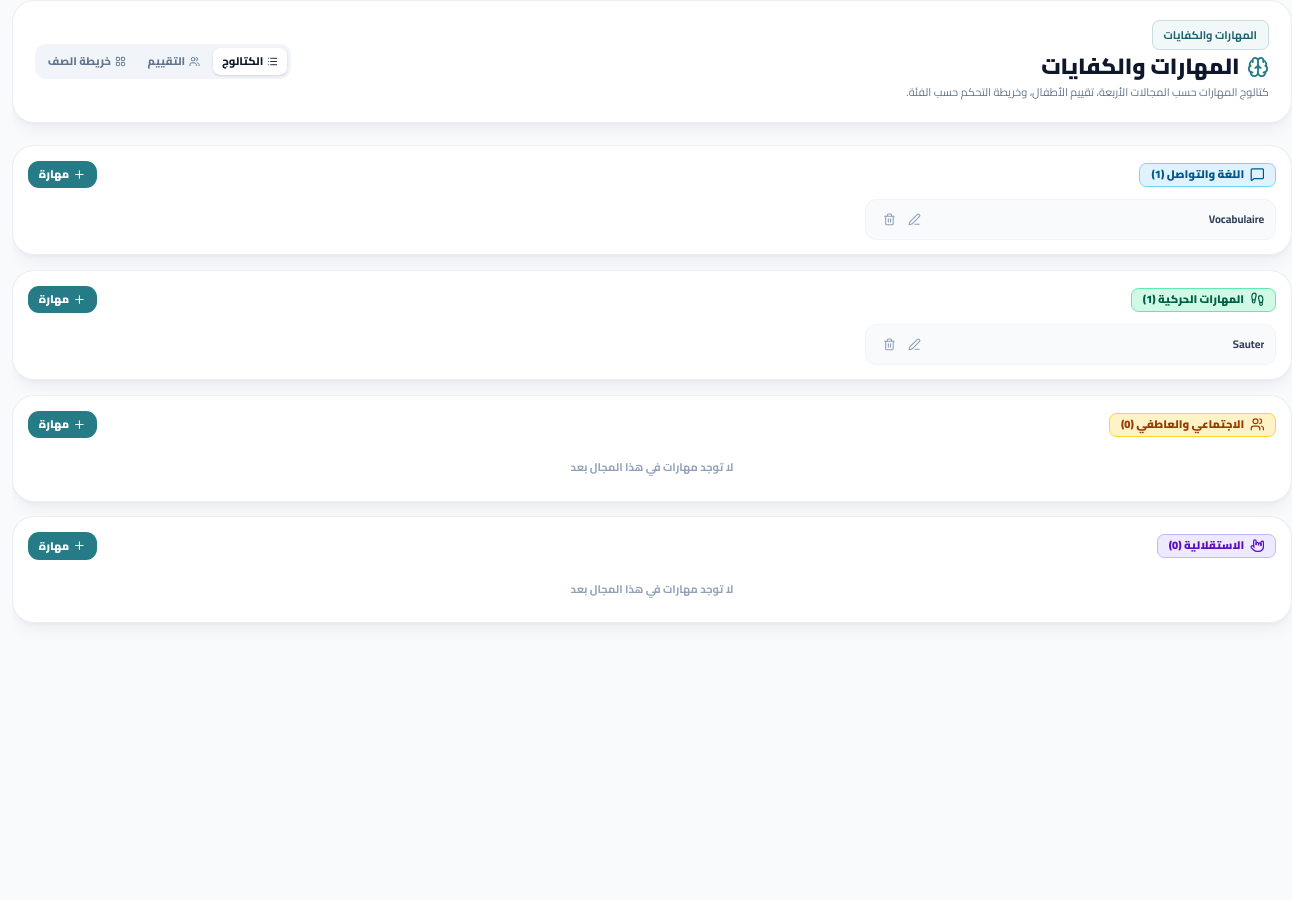
Test: CompetencesModule — US2 evaluations › renders evaluated skills grouped by domain with the stored level
Click the button "التقييم". click: click(174, 62)
box: [138, 48, 209, 75]
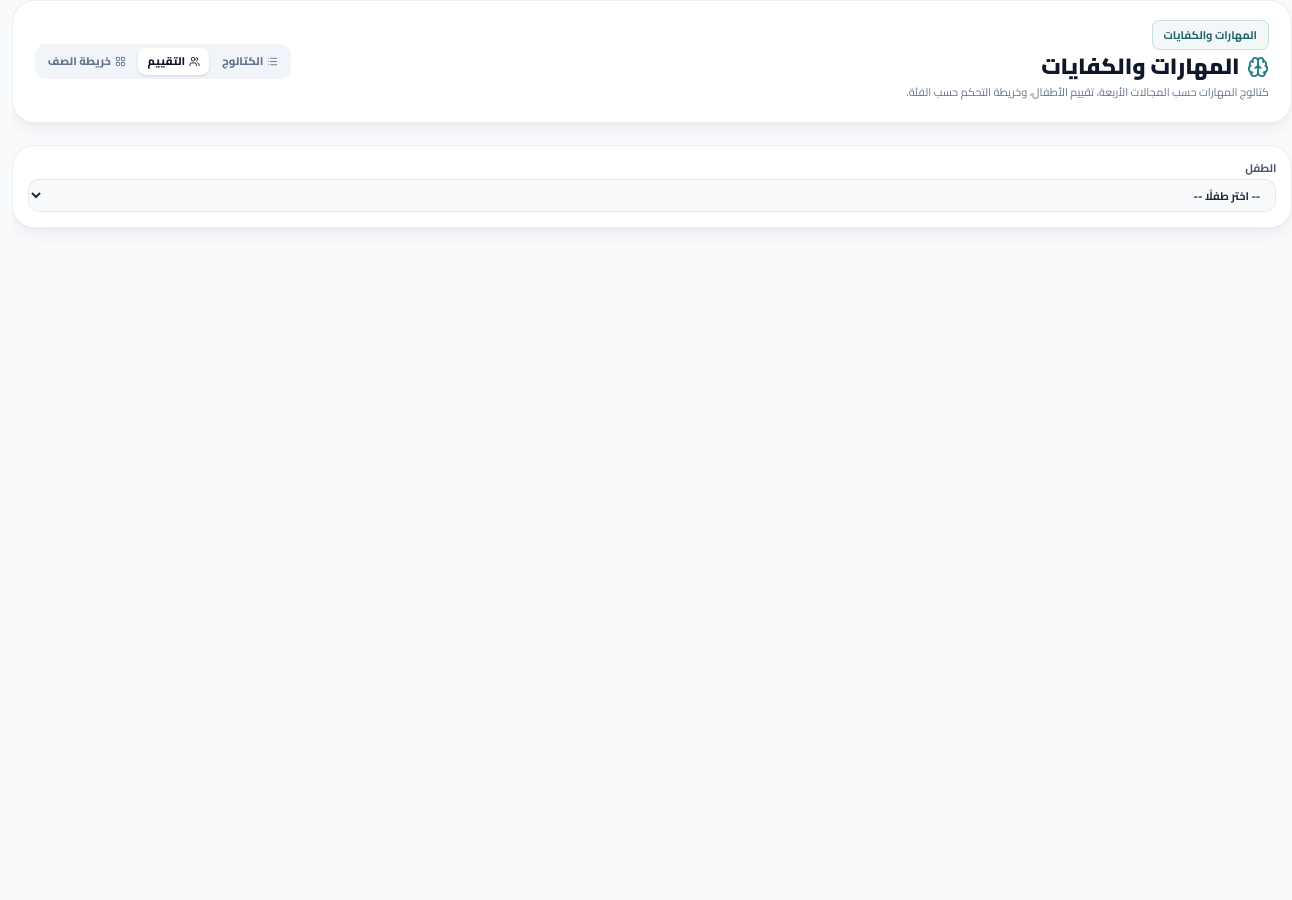
Select "Amine Ben" in the dropdown named "الطفل". click: (652, 196)
box: [28, 179, 1276, 212]
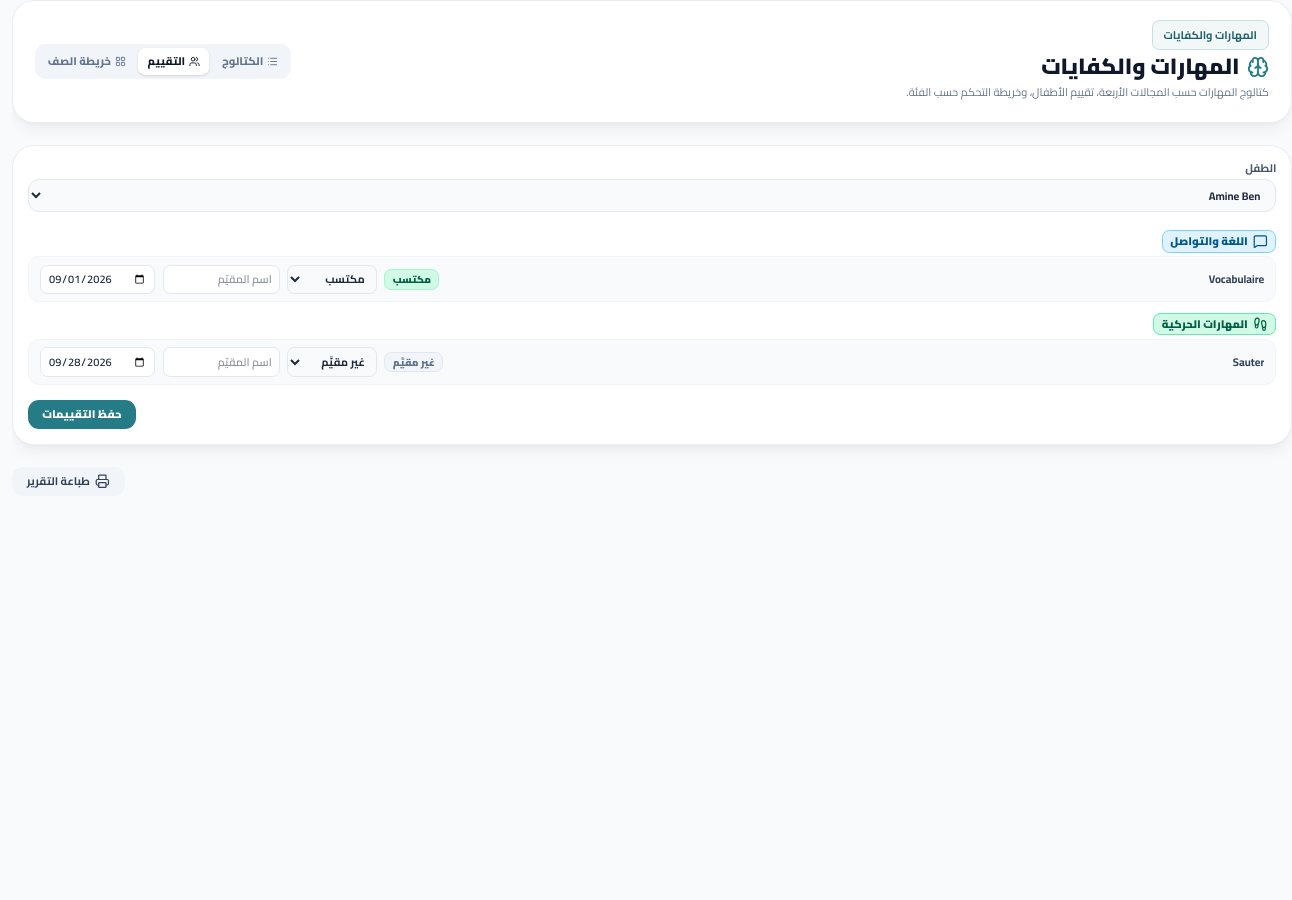
Expected: the text "اللغة والتواصل" is shown, [1162, 230, 1276, 253]
Expected: the text "المهارات الحركية" is shown, [1153, 313, 1276, 336]
Expected: the dropdown named "المستوى Vocabulaire" shows "مكتسب", [287, 265, 377, 294]
